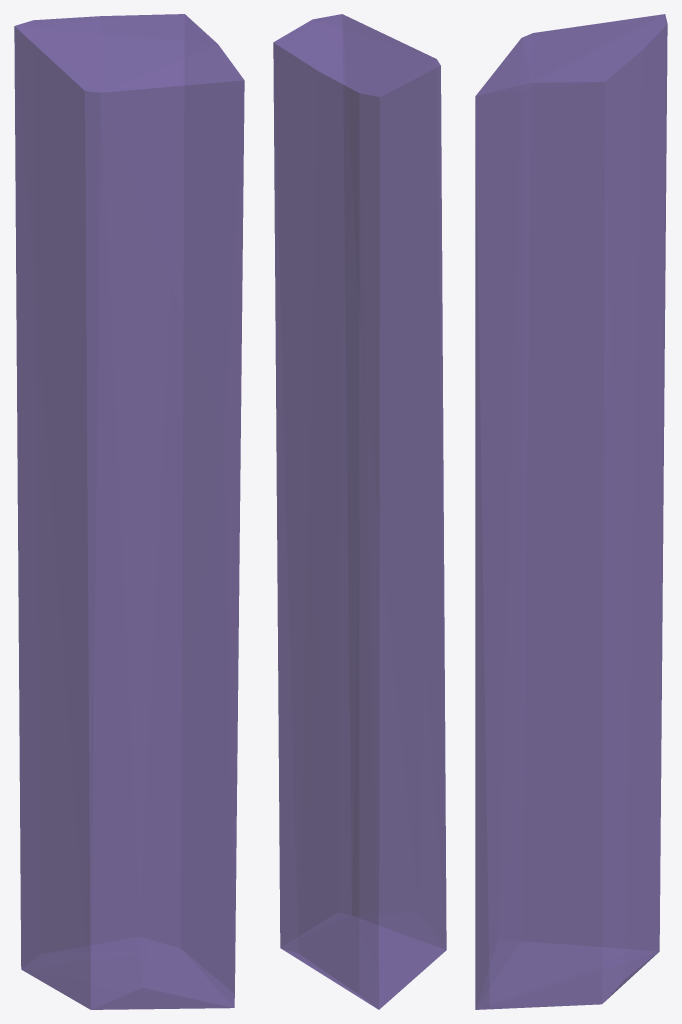
3 renders of one model, left to right at view 1: azimuth 30°, elevation 25°; view 2: azimuth 150°, elevation 25°; view 3: azimuth 270°, elevation 25°, orthographic. The views are drawn at different scales.
Visible parts, largest first — view 1: Shape_IndexedFaceSet.012_Shape_IndexedFaceSet.18073; view 2: Shape_IndexedFaceSet.012_Shape_IndexedFaceSet.18073; view 3: Shape_IndexedFaceSet.012_Shape_IndexedFaceSet.18073.
Part boxes in pixels (bbox=[...]): Shape_IndexedFaceSet.012_Shape_IndexedFaceSet.18073: bbox=[14, 14, 244, 1009]; Shape_IndexedFaceSet.012_Shape_IndexedFaceSet.18073: bbox=[273, 14, 446, 1009]; Shape_IndexedFaceSet.012_Shape_IndexedFaceSet.18073: bbox=[475, 14, 667, 1009].
Bounding box in the file's own units: 0.0412 × 0.2647 × 0.0493.
